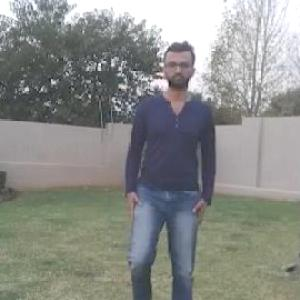follow: (134, 58, 209, 299)
